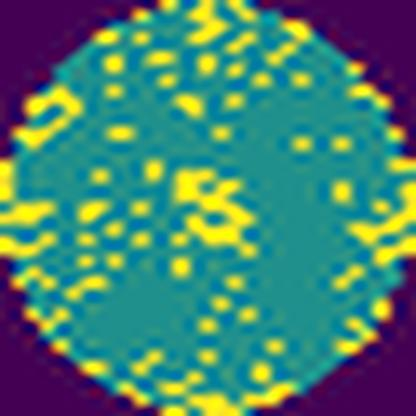Center: (170, 162, 258, 261)
